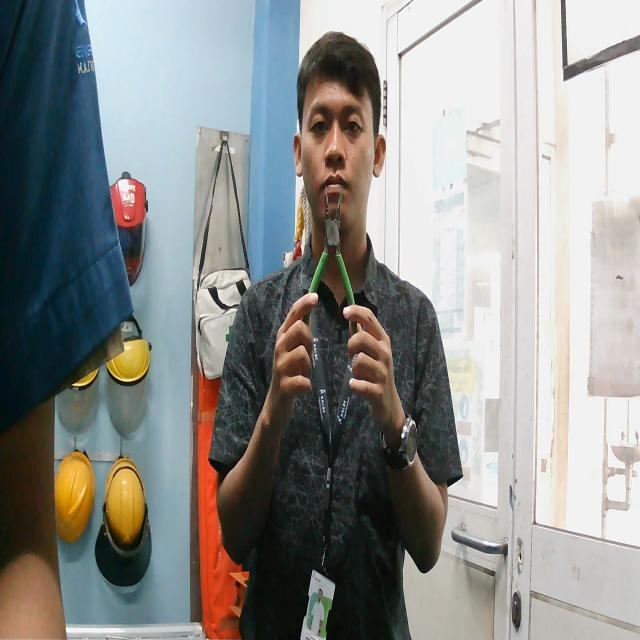tang_scun_hidrolik: (301, 182, 362, 342)
